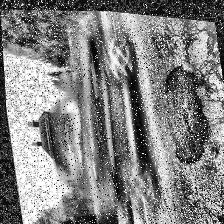pothole: (154, 56, 218, 166)
